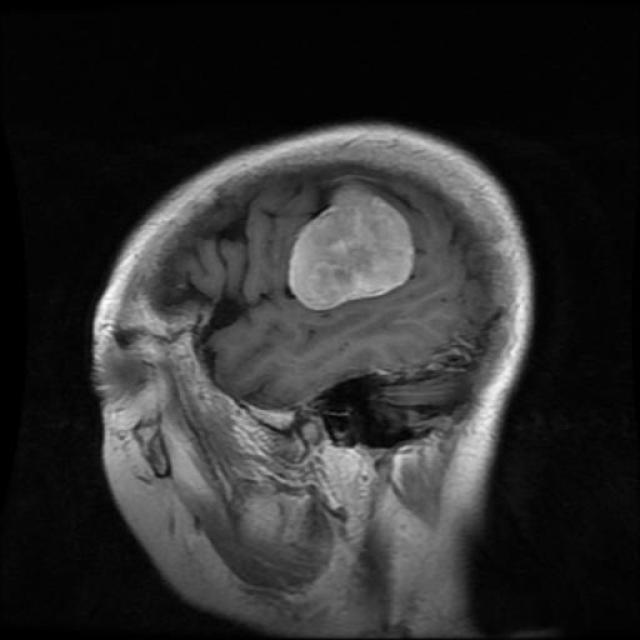meningioma: (286, 185, 415, 312)
